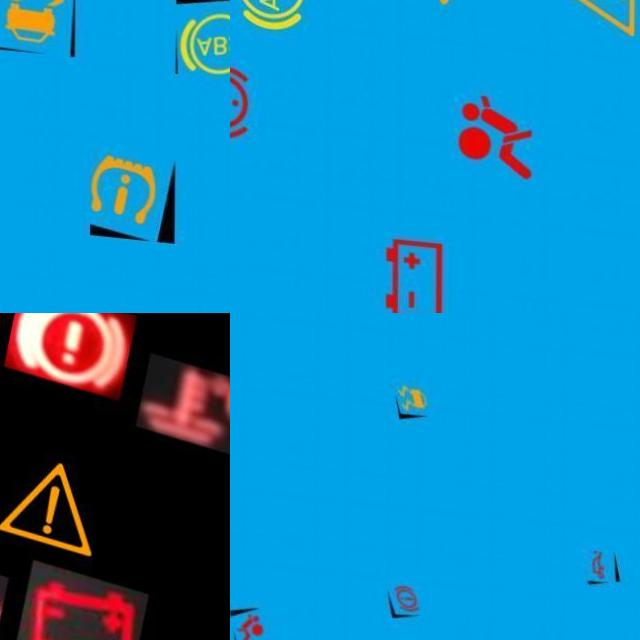Central Warning lamp: (0, 420, 122, 569)
Engine cooling system: (136, 341, 230, 448)
